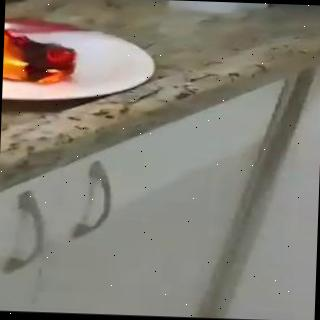fire: (2, 10, 84, 90)
